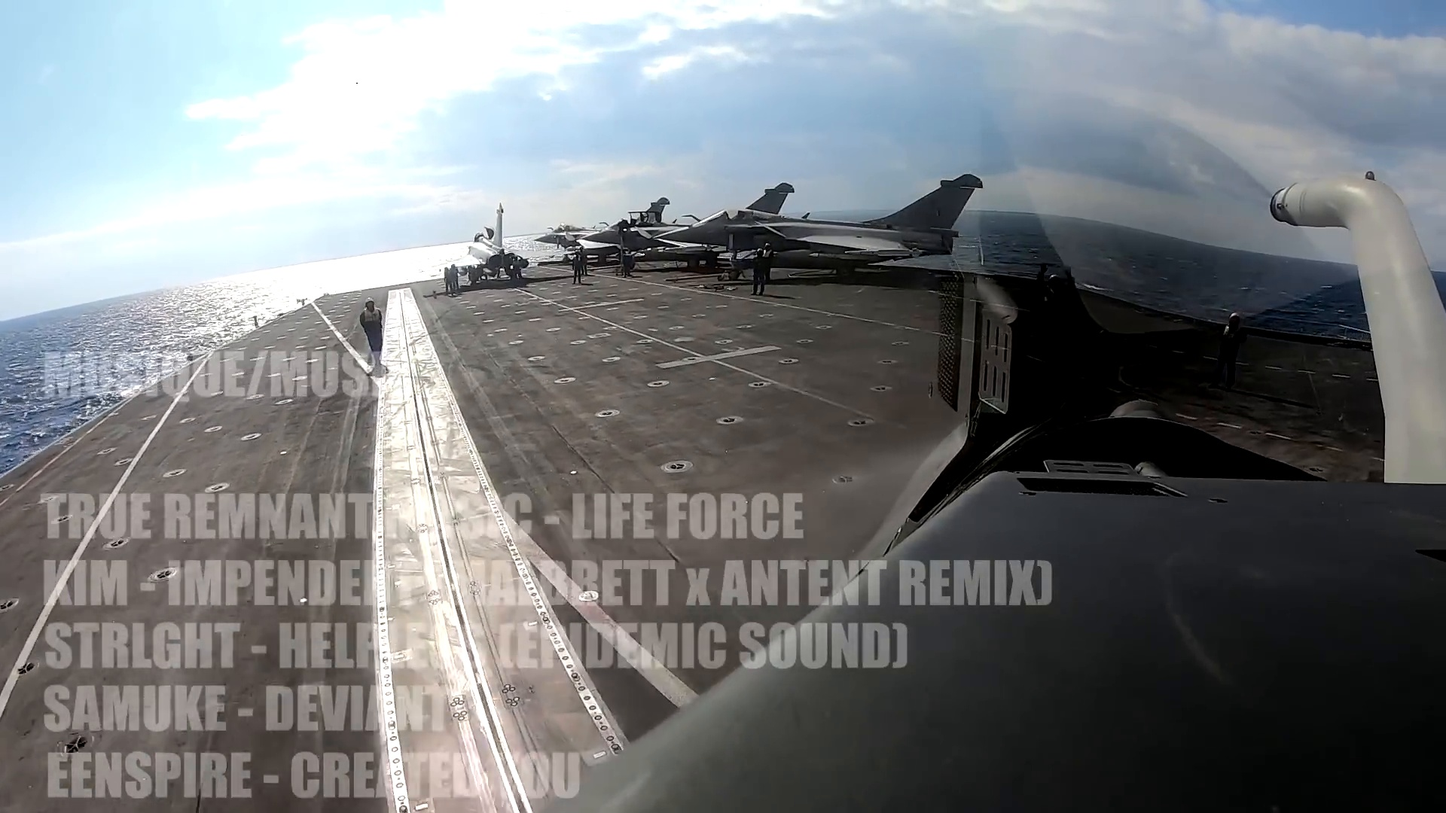Rafale: (652, 174, 985, 269)
